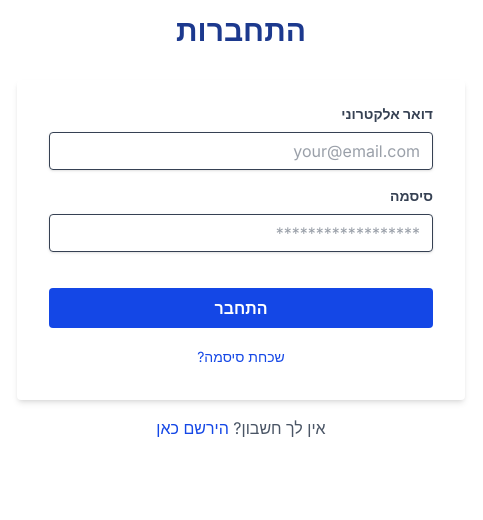
Scenario: Login Page › shows error message when login fails
// Fill and submit form
In the field labelled "דואר אלקטרוני": coordinates (241, 151) [49,132,433,170], type "wrong@example.com"
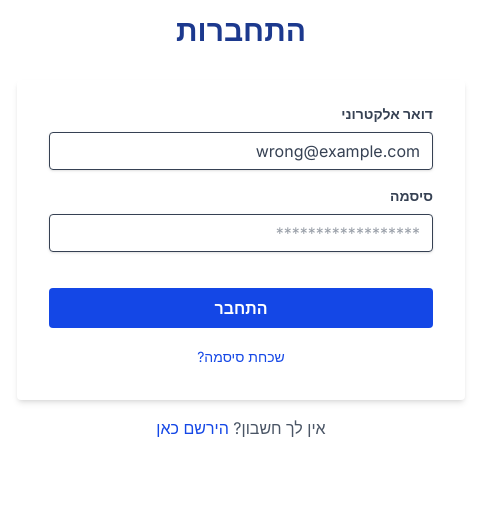
In the password field labelled "סיסמה": coordinates (241, 233) [49,214,433,252], type "wrongpassword"
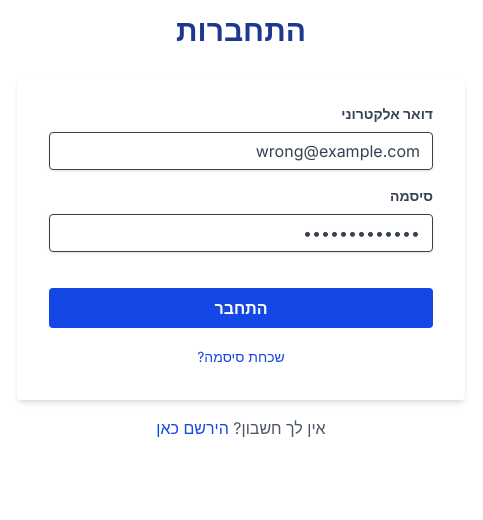
Click the button "התחבר": coordinates (241, 308) [49,288,433,328]
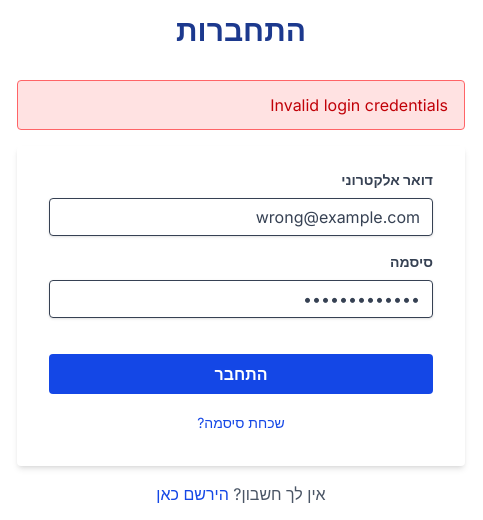
Check: the text "Invalid login credentials" is shown, box [270,95,448,115]
